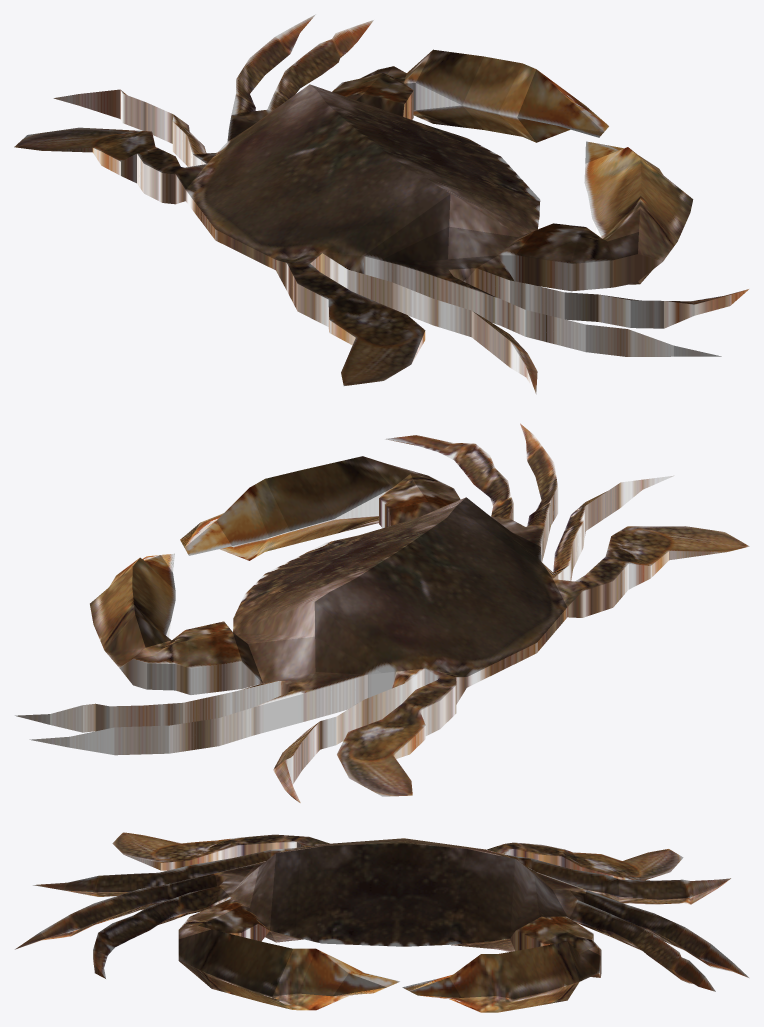
File: AR_Species_MudCrab.fbx
3 views of the same model, one above another, from view 1: azimuth 30°, elevation 25°; view 2: azimuth 150°, elevation 25°; view 3: azimuth 270°, elevation 25° (orthographic). The views are drawn at different scales.
Parts seen in each view (by area): view 1: Mud Crab.001; view 2: Mud Crab.001; view 3: Mud Crab.001.
Boxes of the visible parts, box(x1,y1,x2,y2) form: Mud Crab.001: box(14, 14, 748, 394); Mud Crab.001: box(15, 423, 749, 803); Mud Crab.001: box(14, 832, 748, 1012).
Bounding box in the file's own units: 271 × 72.55 × 477.
1 material, 1 textured.
